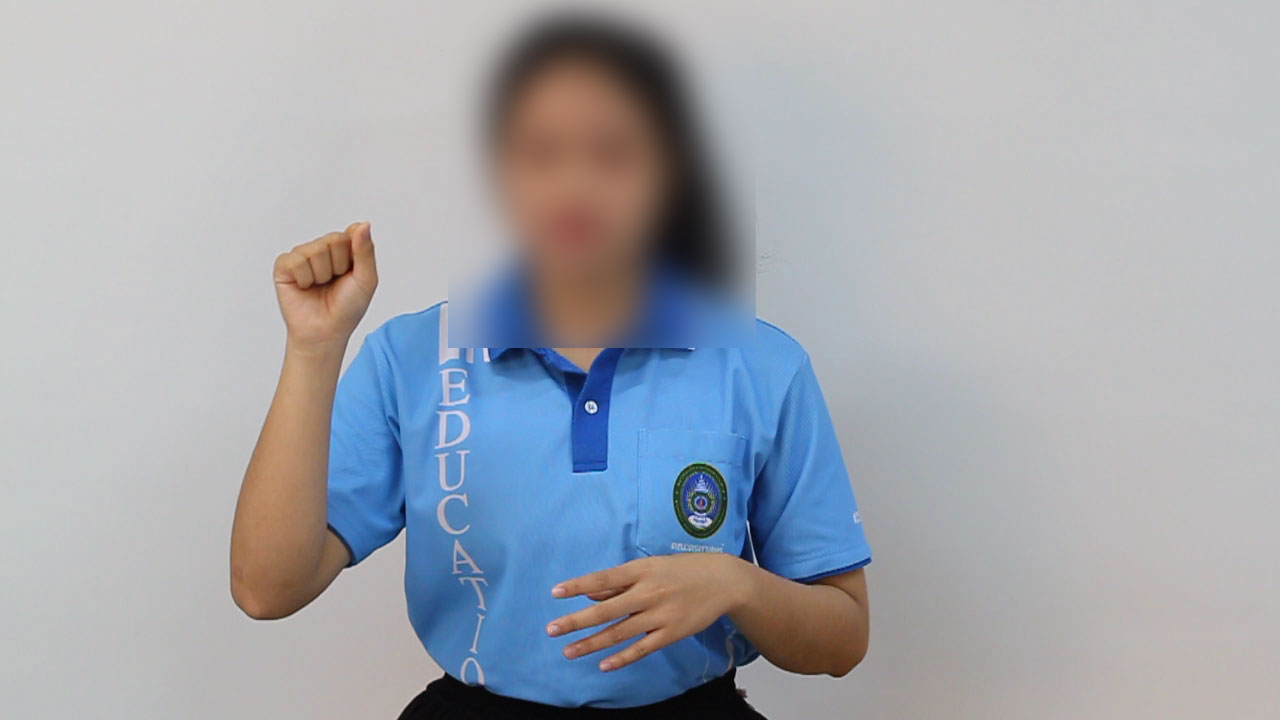sor: (266, 212, 394, 355)
